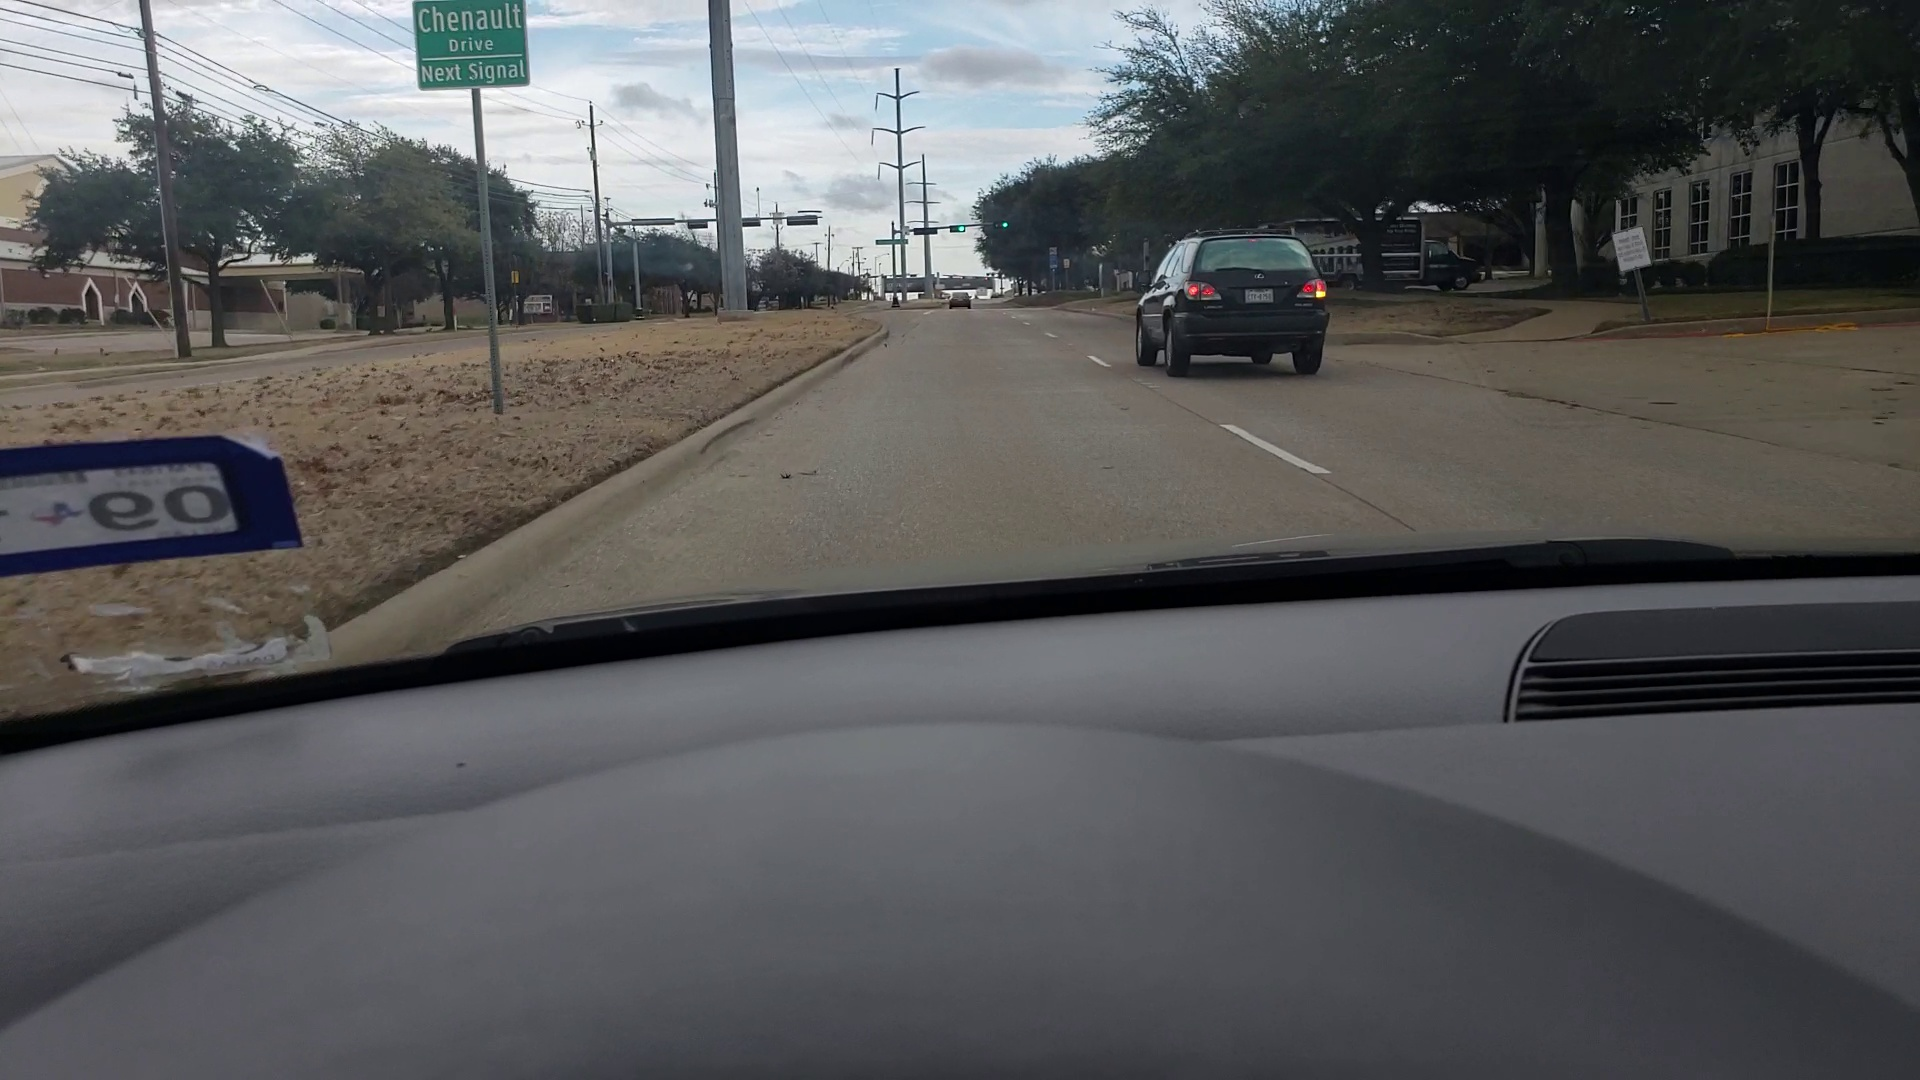car: (1131, 225, 1327, 386), (948, 290, 972, 309)
traffic light: (992, 220, 1011, 229), (948, 224, 967, 233)
truck: (1295, 216, 1495, 301)
